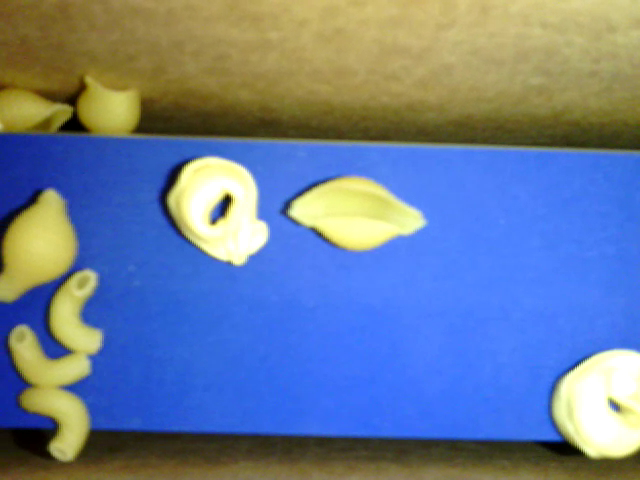elbow: (18, 381, 98, 457), (8, 325, 96, 386), (49, 262, 103, 358)
shell: (284, 173, 422, 248), (1, 187, 75, 307), (1, 74, 75, 135), (73, 73, 142, 134)
tortellini: (156, 157, 266, 270), (549, 345, 639, 459)
